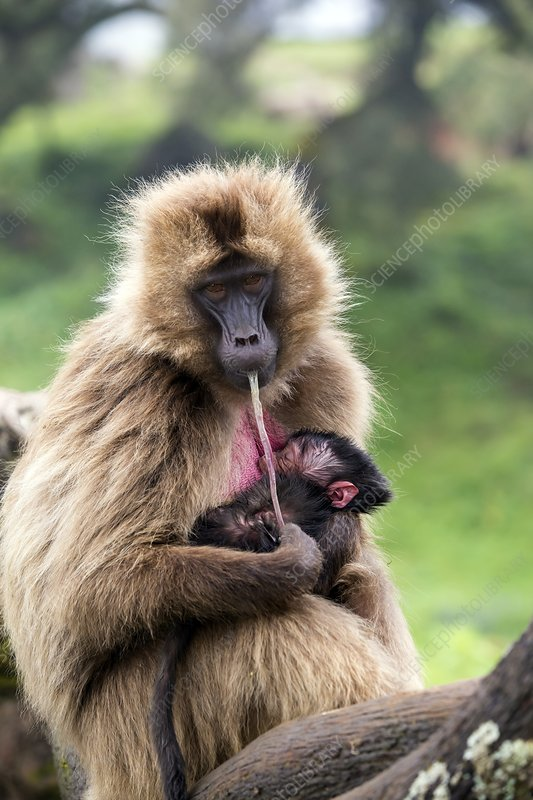Gelada: (89, 193, 373, 756)
